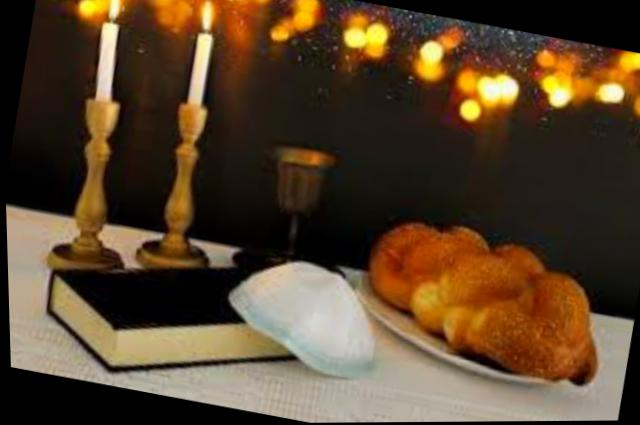fire: (103, 0, 135, 26), (201, 0, 222, 31)
